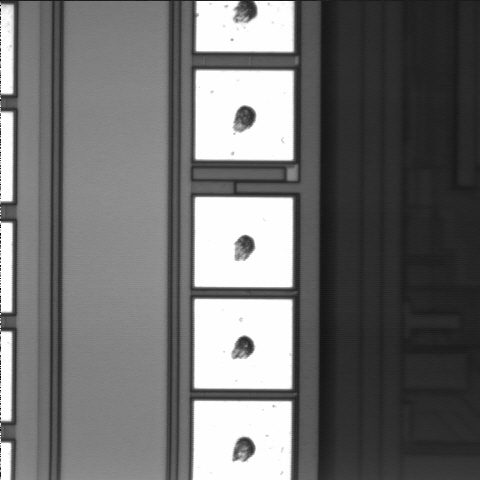pad: (195, 70, 293, 160), (195, 197, 293, 287), (194, 299, 292, 389)
